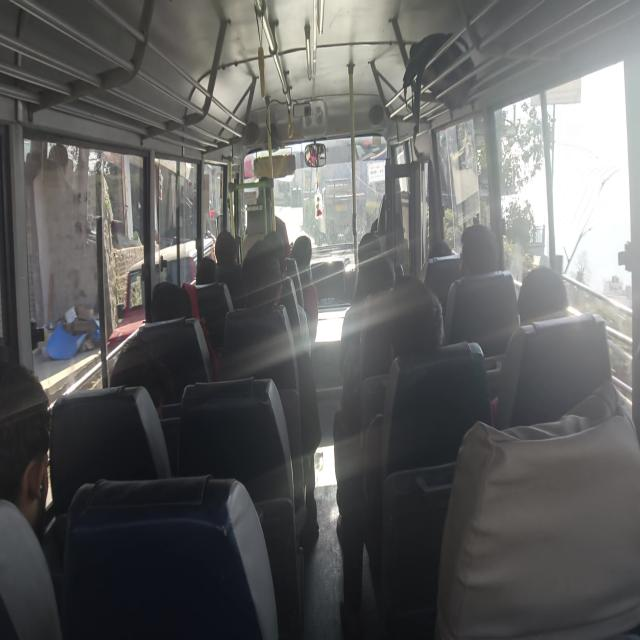person: (435, 380, 639, 638), (336, 275, 446, 635), (236, 241, 322, 545), (0, 361, 63, 638), (34, 143, 96, 330), (443, 223, 518, 353), (517, 264, 570, 324), (290, 235, 318, 348), (458, 224, 499, 277), (212, 230, 242, 298), (290, 235, 312, 283), (214, 230, 238, 266), (195, 256, 216, 286)
